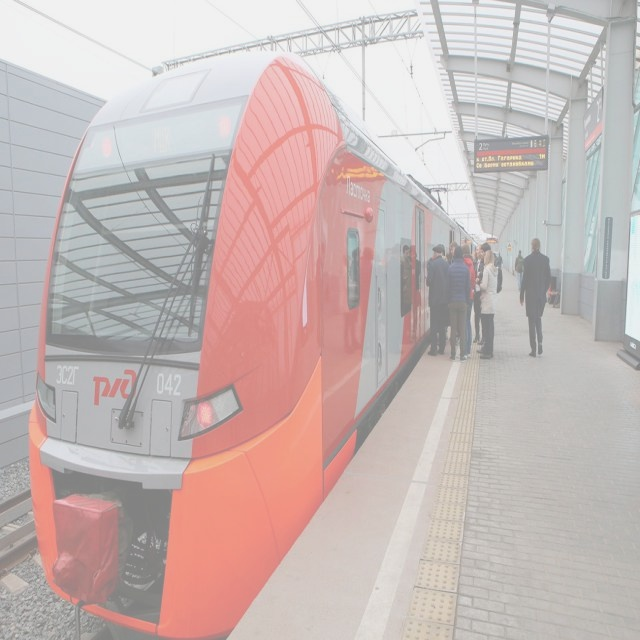pessoa: (340, 241, 422, 364), (518, 237, 552, 359), (445, 244, 472, 362), (474, 242, 504, 347), (425, 244, 450, 356), (478, 248, 499, 360), (314, 241, 333, 352), (460, 242, 477, 361), (473, 242, 486, 346), (514, 248, 526, 293), (436, 326, 460, 348), (442, 240, 459, 266), (492, 251, 503, 267), (425, 256, 435, 272), (436, 242, 442, 245)
